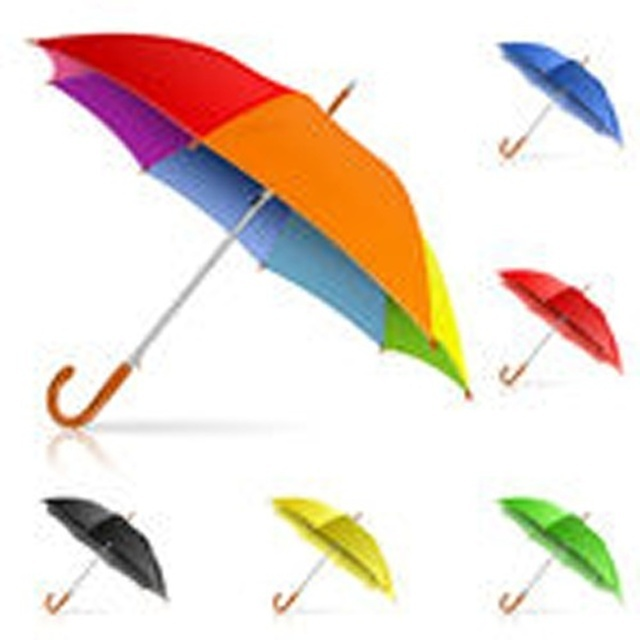umbrella: (24, 24, 479, 433), (266, 490, 404, 619), (491, 35, 624, 164), (495, 261, 625, 391), (40, 491, 174, 615), (493, 493, 625, 616)
